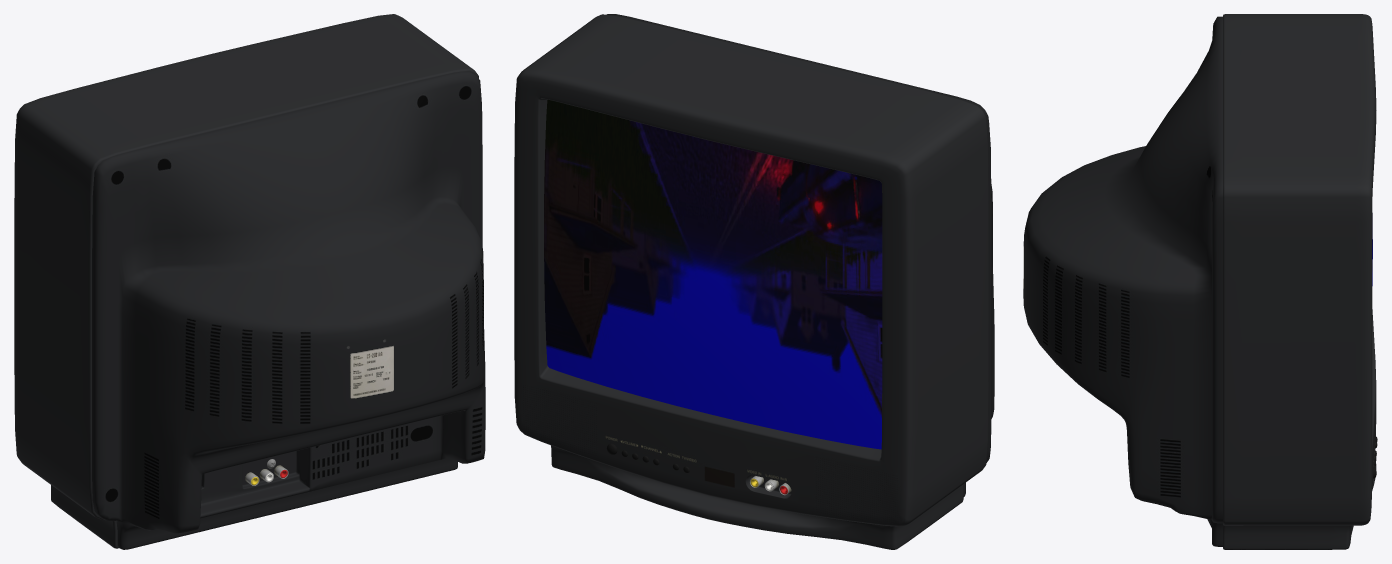
3 views of the same model, side by side, from view 1: azimuth 30°, elevation 25°; view 2: azimuth 150°, elevation 25°; view 3: azimuth 270°, elevation 25° (orthographic). The views are drawn at different scales.
Parts seen in each view (by area): view 1: rear_section, Front_section; view 2: Front_section, Screen, rear_section; view 3: Front_section, rear_section.
Boxes of the visible parts, box(x1,y1,x2,y2) form: rear_section: box(92, 71, 485, 549); Front_section: box(14, 14, 478, 548); Front_section: box(514, 14, 988, 549); Screen: box(544, 99, 882, 449); rear_section: box(606, 14, 994, 496); Front_section: box(1223, 14, 1376, 549); rear_section: box(1023, 16, 1222, 546).
Bounding box in the file's own units: 0.468 × 0.4524 × 0.3871.
Materials: 3 (3 with a texture image).
